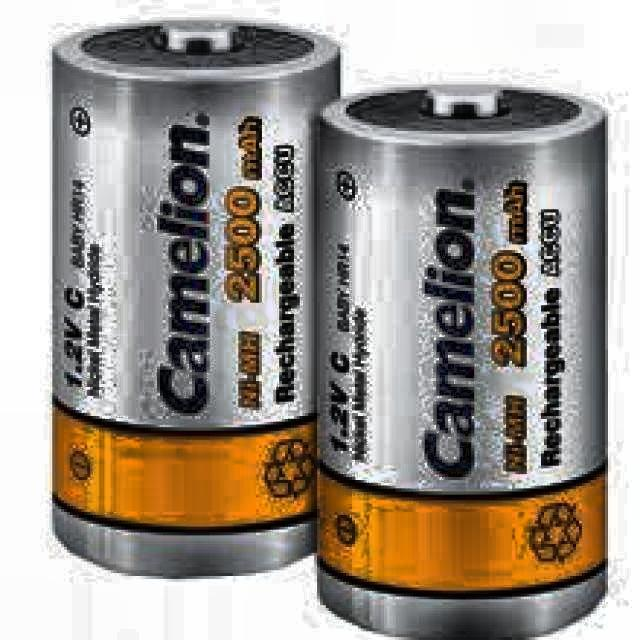battery: (53, 16, 341, 580), (317, 83, 608, 640)
